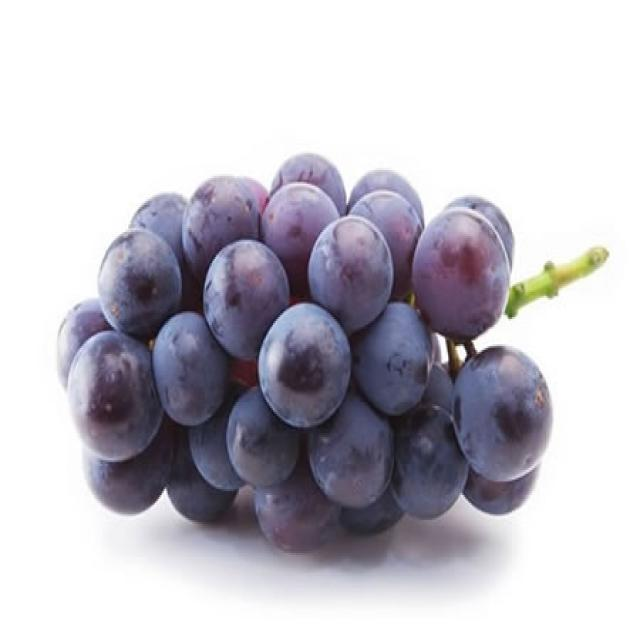grape: (57, 151, 573, 547)
